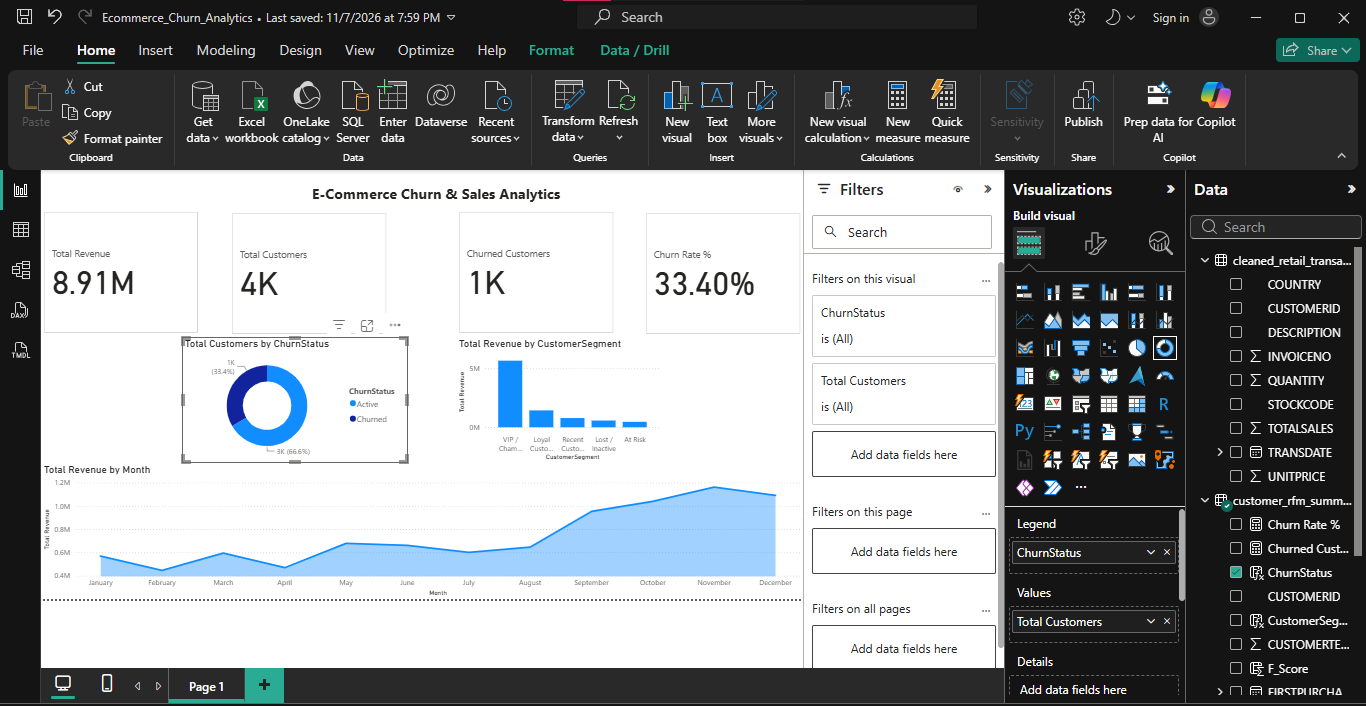

What the dashboard file says about the page in this screenshot:
{"tool":"powerbi","page":{"name":"Page 1","canvas":[1280,720],"ordinal":0},"visuals":[{"type":"cardVisual","fields":{"Data":["customer_rfm_summary.Total Revenue"]},"box":[0,65.5,268.8,213.3],"z":0},{"type":"cardVisual","fields":{"Data":["customer_rfm_summary.Total Customers"]},"box":[315.8,67.2,269,213],"z":1000},{"type":"cardVisual","fields":{"Data":["customer_rfm_summary.Churned Customers"]},"box":[697.1,65.5,269,213],"z":2000},{"type":"cardVisual","fields":{"Data":["customer_rfm_summary.Churn Rate %"]},"box":[1011.2,67.2,269,213],"z":3000},{"type":"donutChart","fields":{"Category":["customer_rfm_summary.ChurnStatus"],"Y":["customer_rfm_summary.Total Customers"]},"box":[236.9,280.5,379.6,211.7],"z":3001},{"type":"clusteredColumnChart","fields":{"Category":["customer_rfm_summary.CustomerSegment"],"Y":["customer_rfm_summary.Total Revenue"]},"box":[697.1,280.5,347.7,211.7],"z":3002},{"type":"areaChart","fields":{"Category":["cleaned_retail_transactions.TRANSDATE.Variation.Date Hierarchy.Year","cleaned_retail_transactions.TRANSDATE.Variation.Date Hierarchy.Quarter","cleaned_retail_transactions.TRANSDATE.Variation.Date Hierarchy.Month","cleaned_retail_transactions.TRANSDATE.Variation.Date Hierarchy.Day"],"Y":["customer_rfm_summary.Total Revenue"]},"box":[0,492.2,1280,228.5],"z":3003},{"type":"textbox","box":[450.2,18.5,811.3,48.7],"z":3004}]}

Visuals, with their boxes on the page's 1280x720 design canvas (x1, y1, x2, y2). These are canvas units, not pixel positions in the 1366x706 screenshot, which may show the page scaled, cropped or inside an application window:
cardVisual - customer_rfm_summary.Total Revenue: rect(0, 66, 269, 279)
cardVisual - customer_rfm_summary.Total Customers: rect(316, 67, 585, 280)
cardVisual - customer_rfm_summary.Churned Customers: rect(697, 66, 966, 278)
cardVisual - customer_rfm_summary.Churn Rate %: rect(1011, 67, 1280, 280)
donutChart - customer_rfm_summary.ChurnStatus x customer_rfm_summary.Total Customers: rect(237, 280, 616, 492)
clusteredColumnChart - customer_rfm_summary.CustomerSegment x customer_rfm_summary.Total Revenue: rect(697, 280, 1045, 492)
areaChart - cleaned_retail_transactions.TRANSDATE.Variation.Date Hierarchy.Year x cleaned_retail_transactions.TRANSDATE.Variation.Date Hierarchy.Quarter: rect(0, 492, 1280, 721)
textbox: rect(450, 18, 1262, 67)
